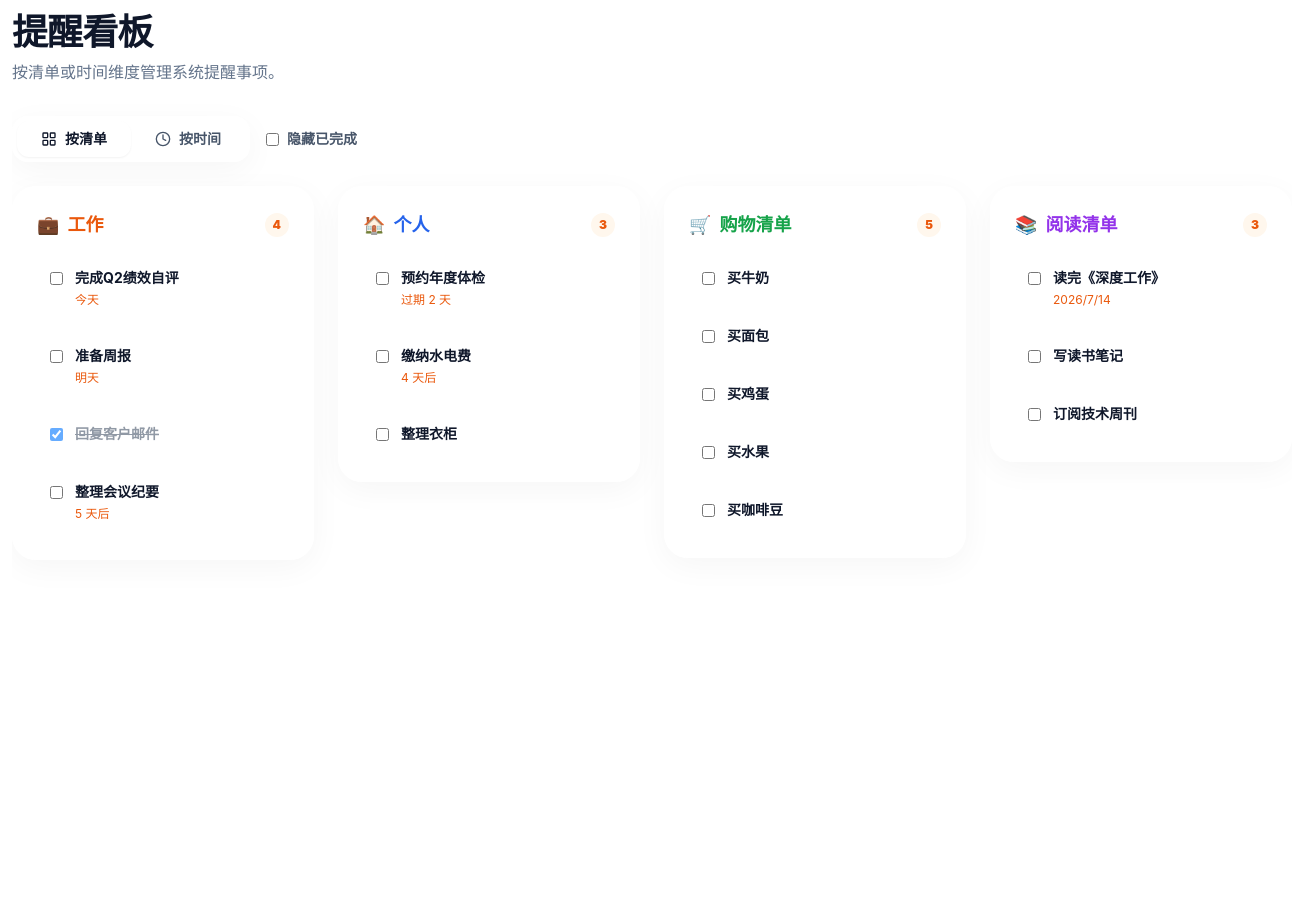
RemindersView › By Time View › should expand collapsed group when clicking its title
// 切换到按时间视图
Click the button "按时间" at point(188, 139), box x1=131 y1=121 x2=245 y2=157
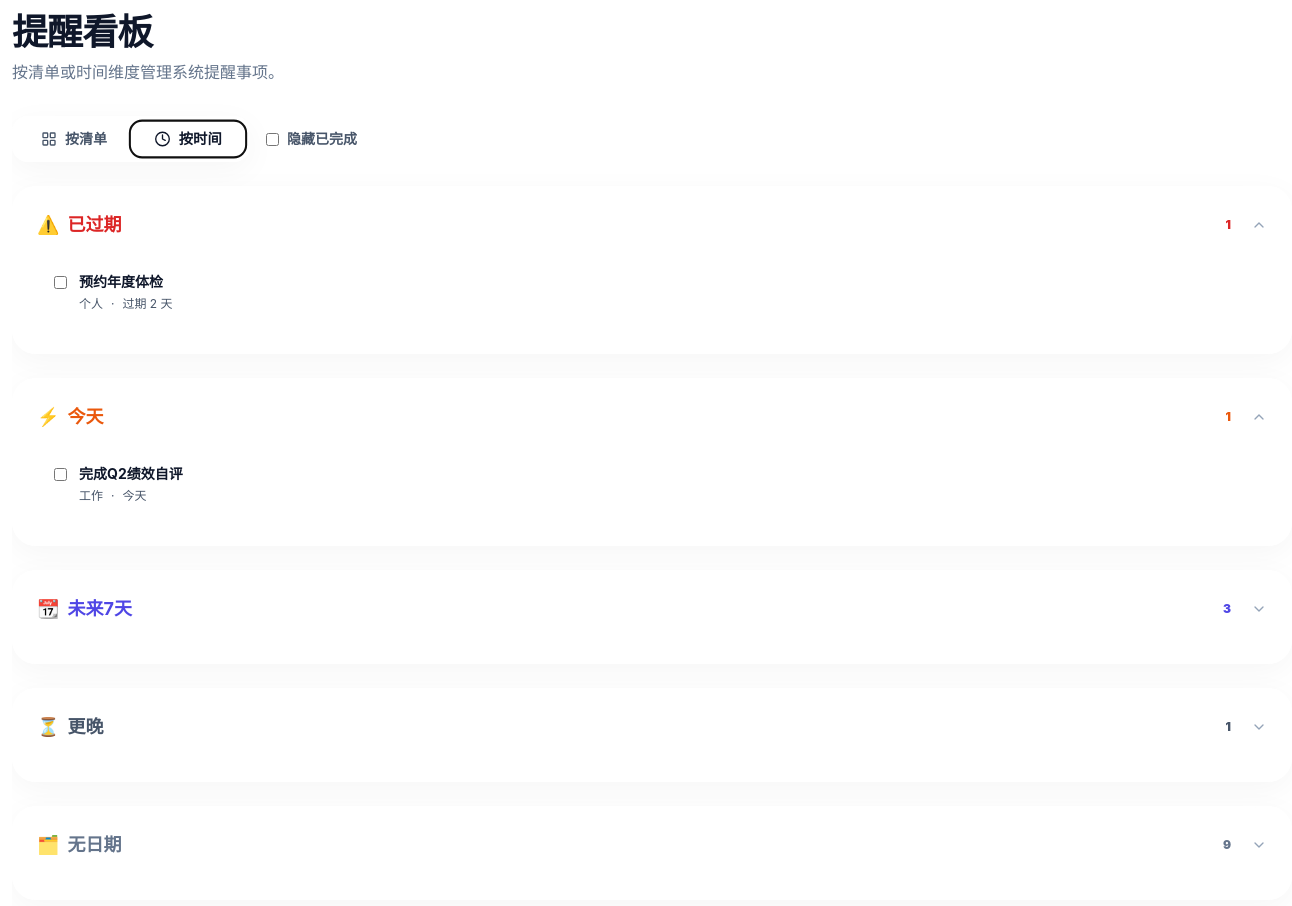
Expected: the heading "⚠️ 已过期" is shown, x1=37 y1=211 x2=122 y2=239
Expected: the button "读完《深度工作》" is gone
// 点击"更晚"分组标题
Click the button "⏳ 更晚 1" at point(85, 726), box x1=37 y1=713 x2=1267 y2=741
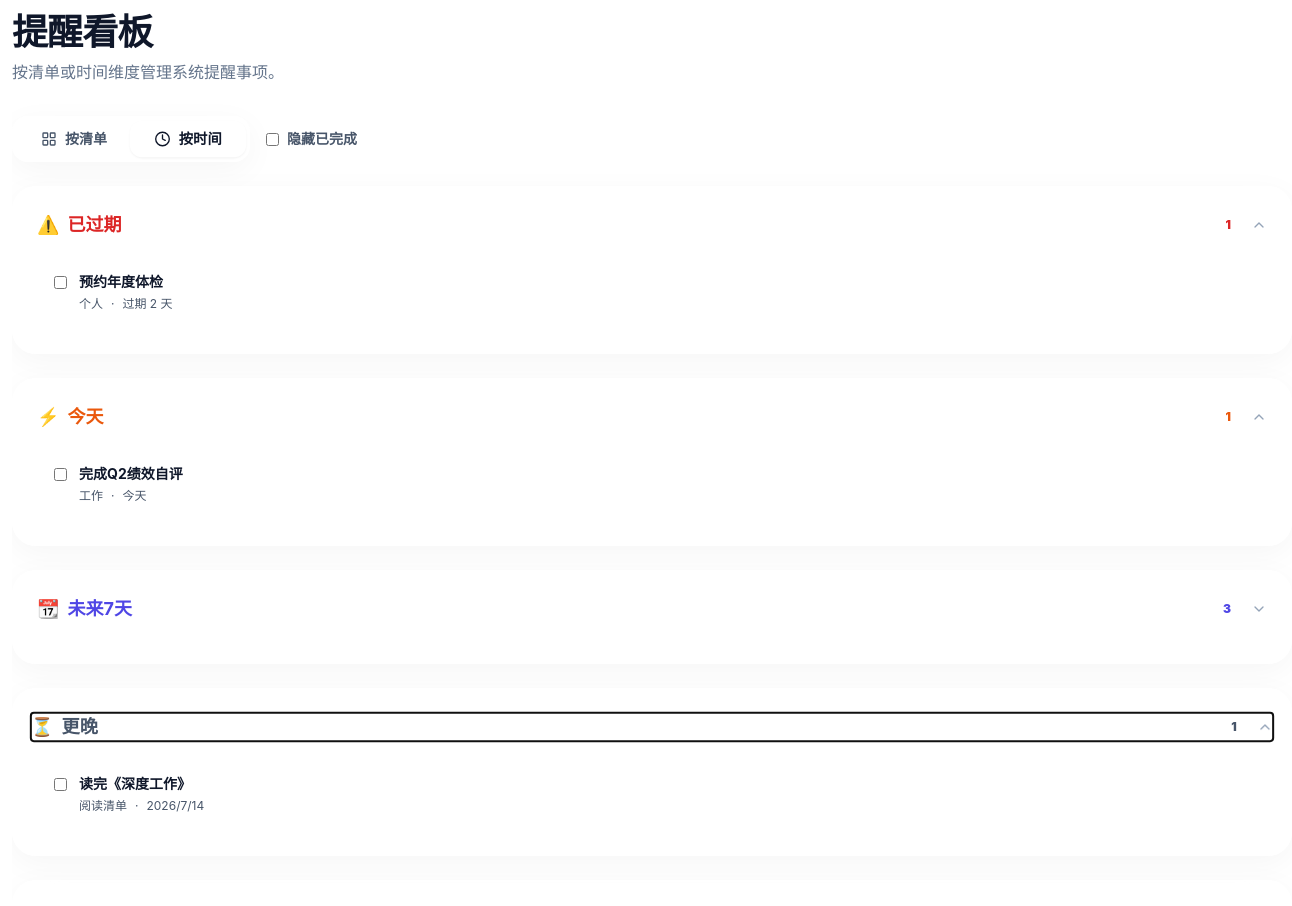
Expected: the text "读完《深度工作》" is shown, x1=79 y1=775 x2=191 y2=792
